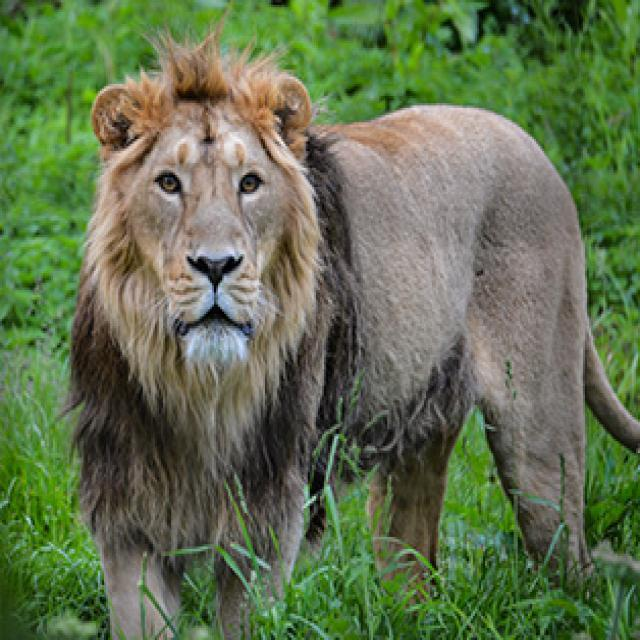lions: (45, 59, 640, 640)
